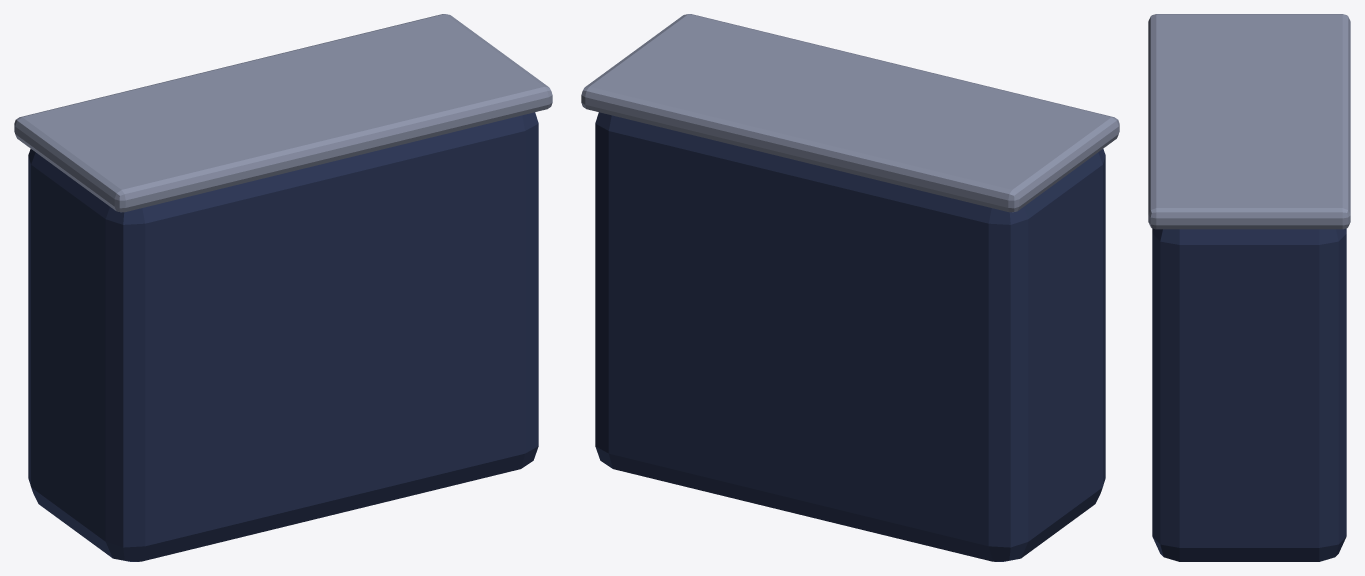
The model's file is abri.glb.
3 renders of one model, left to right at view 1: azimuth 30°, elevation 25°; view 2: azimuth 150°, elevation 25°; view 3: azimuth 270°, elevation 25°, orthographic. The views are drawn at different scales.
Parts seen in each view (by area): view 1: Abri, Haut; view 2: Abri, Haut; view 3: Abri, Haut.
Boxes of the visible parts, bbox=[...] form: Abri: bbox=[28, 112, 538, 561]; Haut: bbox=[14, 14, 552, 212]; Abri: bbox=[595, 112, 1105, 561]; Haut: bbox=[581, 14, 1119, 212]; Abri: bbox=[1152, 228, 1346, 561]; Haut: bbox=[1148, 14, 1350, 229].
Size of the model in its own units: 1.22 by 1.03 by 0.52.
